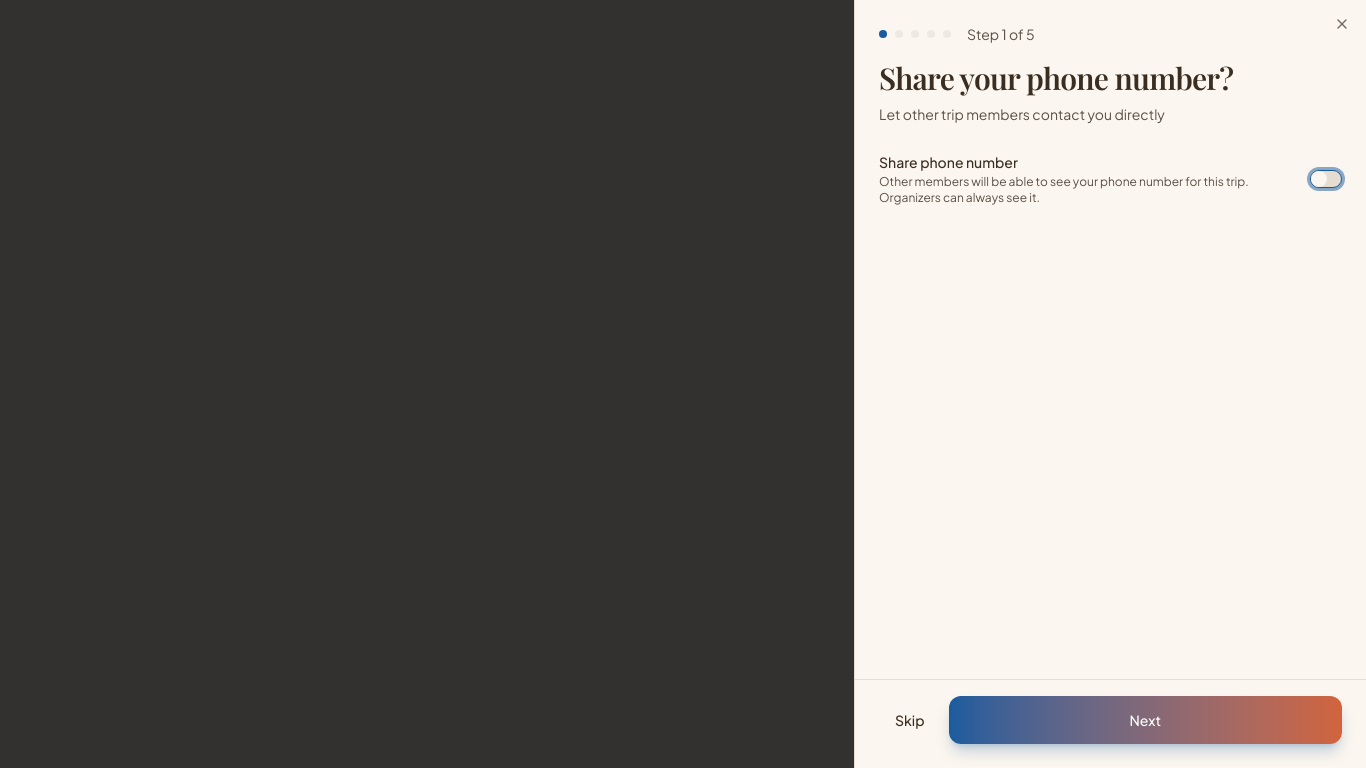
it: MemberOnboardingWizard › Step navigation back › returns to arrival step when clicking Back on departure step
The image size is (1366, 768).
Click the button "Skip" at (910, 720), box [879,696,940,744]
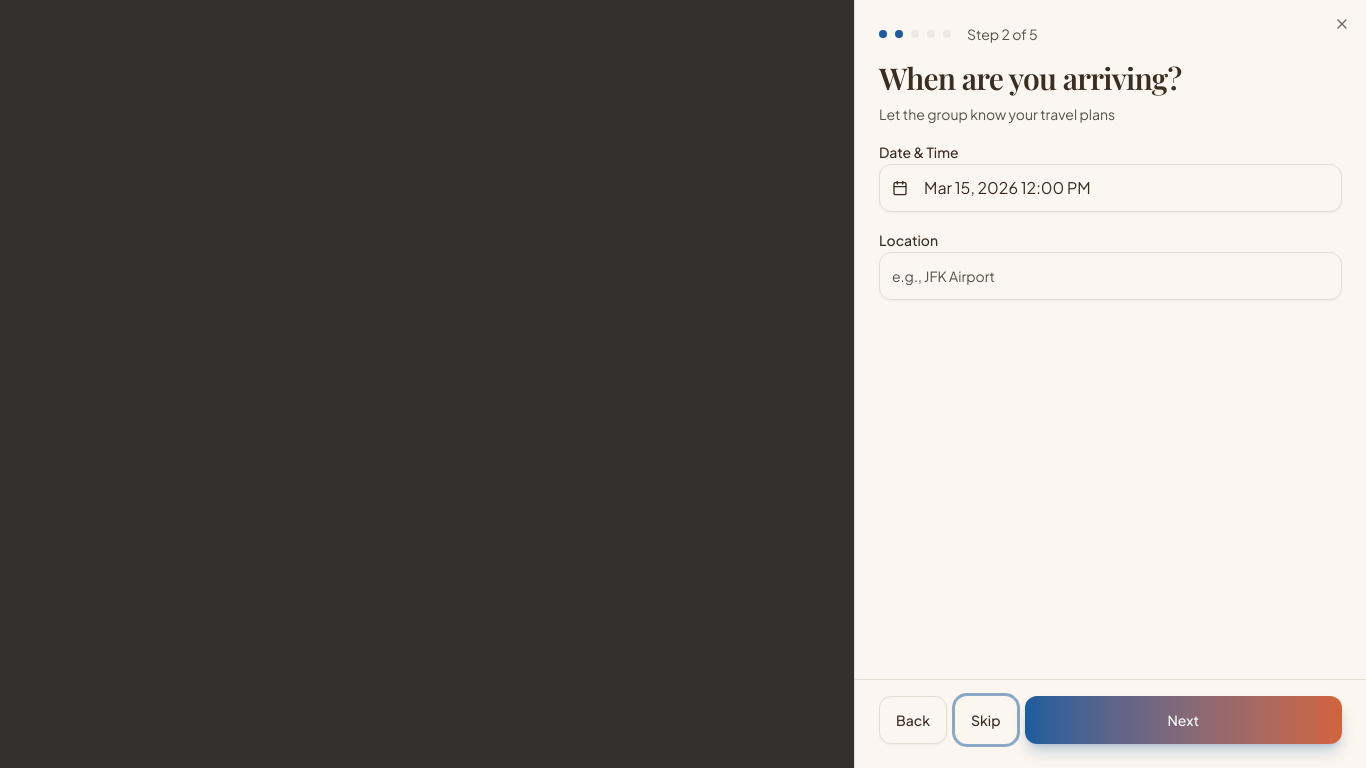
Expected: the heading "When are you arriving?" is shown, [879,58,1181,98]
Click the button "Skip" at (986, 720), box [955,696,1016,744]
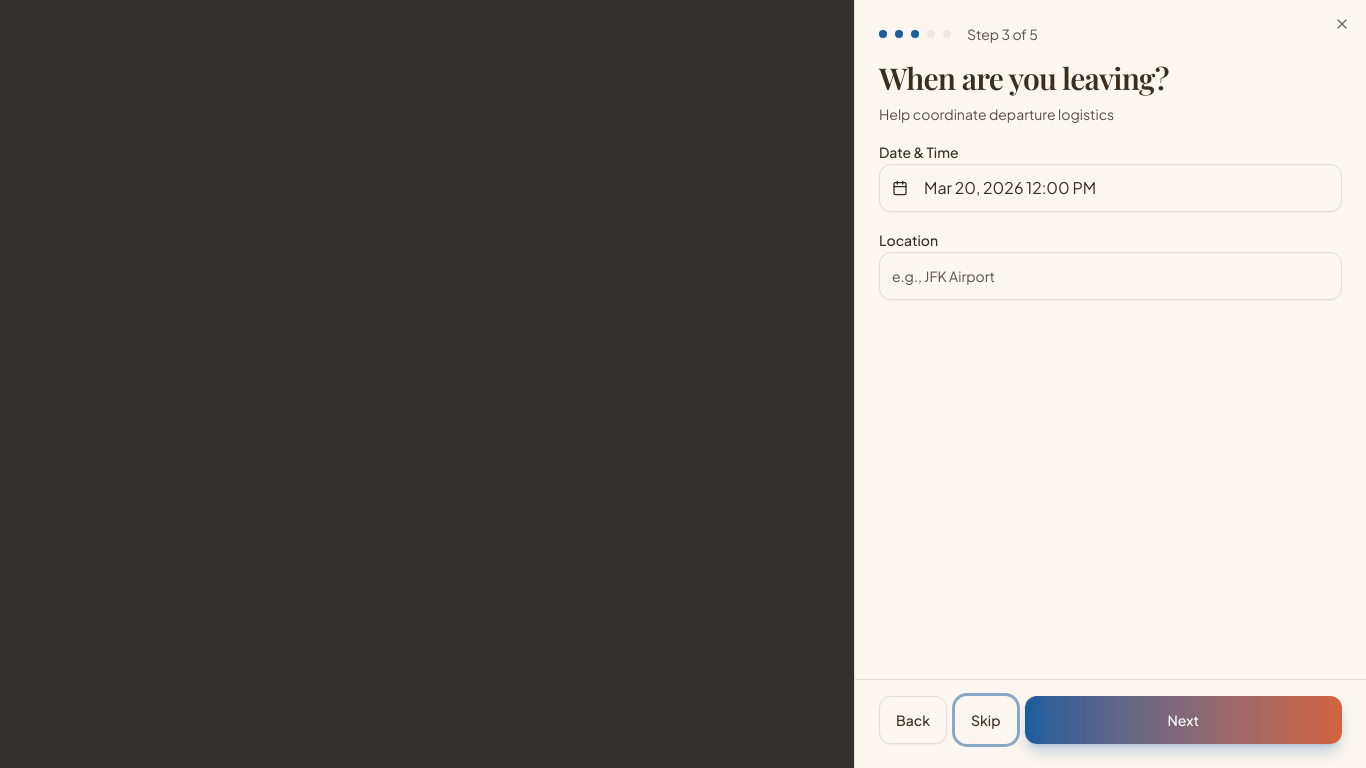
Expected: the heading "When are you leaving?" is shown, [879,58,1169,98]
Click the button "Back" at (913, 720), box [879,696,947,744]
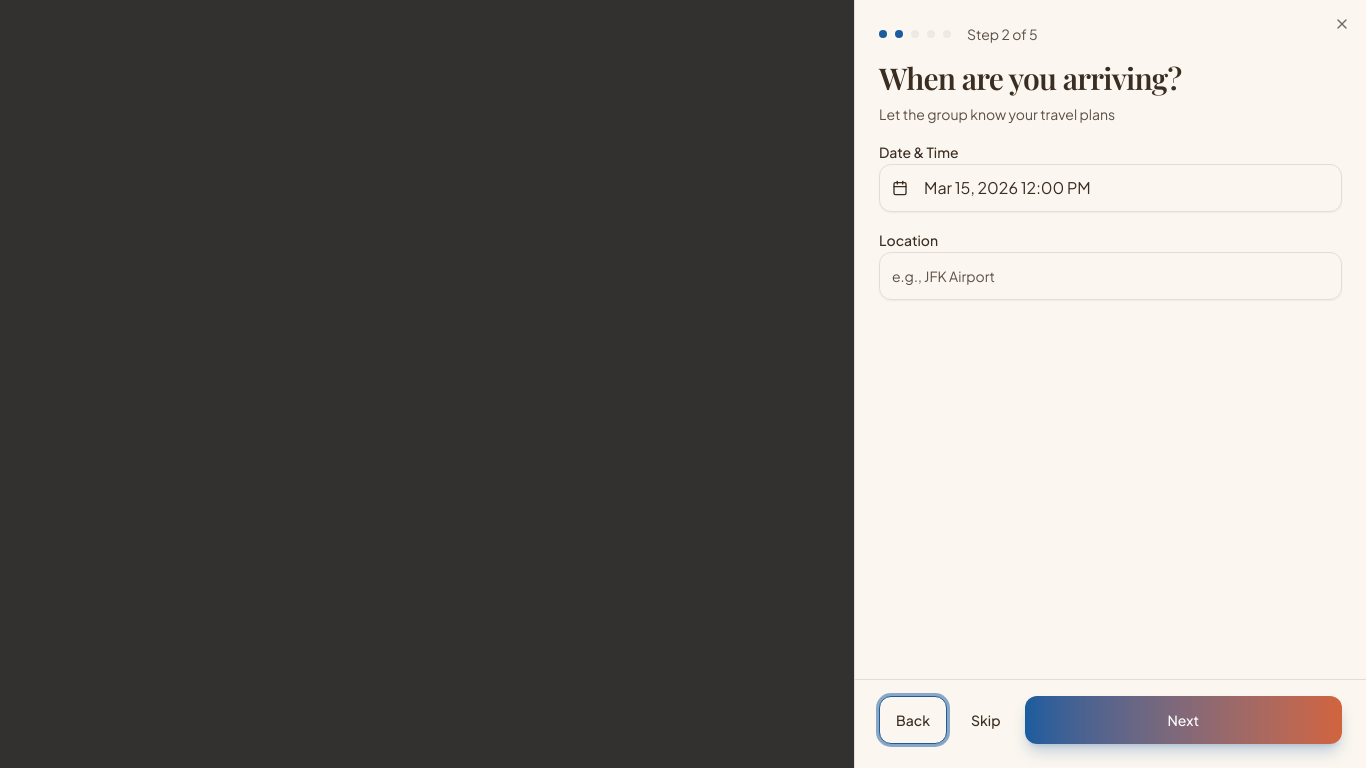
Expected: the heading "When are you arriving?" is shown, [879,58,1181,98]
Expected: the text "Step 2 of 5" is shown, [967,24,1038,44]
